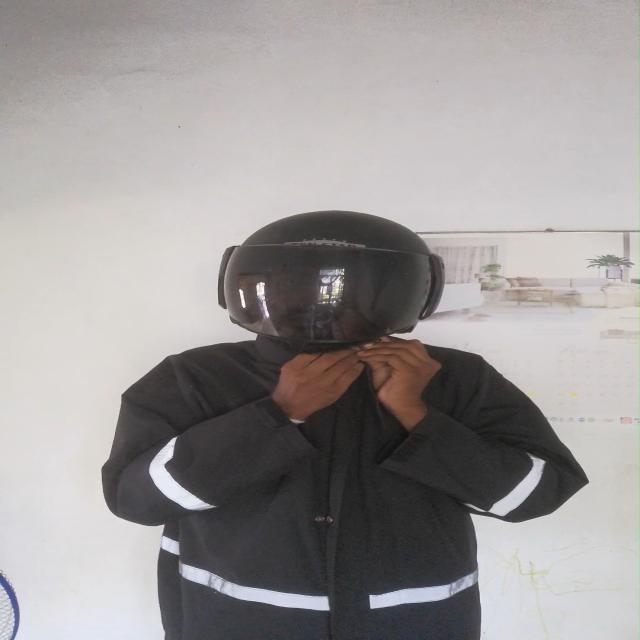Helmet_Wearer: (200, 202, 452, 378)
Jacket_Wearer: (87, 325, 600, 640)
Person: (90, 201, 590, 640)
